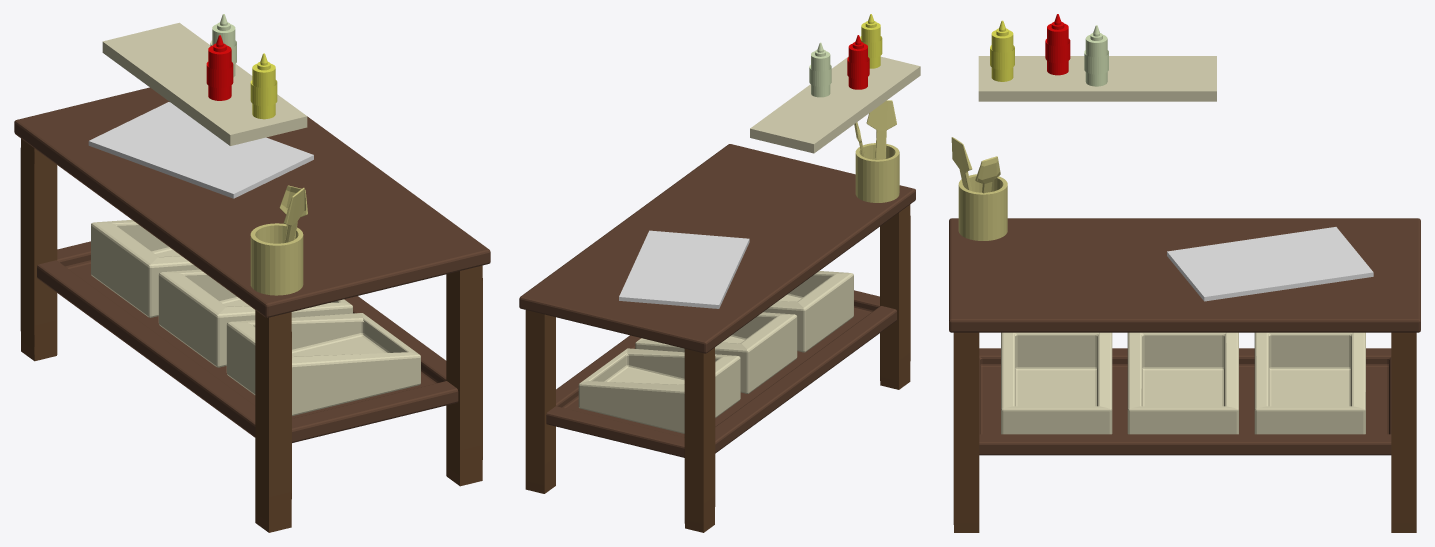
File: masa_raf.fbx
The picture shows the model from 3 angles, left to right: view 1: azimuth 30°, elevation 25°; view 2: azimuth 150°, elevation 25°; view 3: azimuth 270°, elevation 25°; orthographic projection. The views are drawn at different scales.
Parts seen in each view (by area): view 1: masa, sebzelik, kesme_tahtası, raf, koyacak, hardal, ketçap, mayonez; view 2: masa, sebzelik, kesme_tahtası, raf, koyacak, ketçap, mayonez, hardal; view 3: masa, sebzelik, kesme_tahtası, raf, koyacak, mayonez, hardal, ketçap.
Boxes of the visible parts, x1,y1,x2,y2 form: masa: (14,87,490,532); sebzelik: (91,219,420,415); kesme_tahtası: (88,102,313,198); raf: (102,22,307,145); koyacak: (250,185,307,295); hardal: (250,53,277,119); ketçap: (206,35,233,100); mayonez: (210,14,236,77); masa: (519,144,915,532); sebzelik: (578,271,853,433); kesme_tahtası: (619,230,749,308); raf: (750,56,920,153); koyacak: (854,100,899,202); ketçap: (847,35,869,89); mayonez: (809,42,831,97); hardal: (860,14,882,68); masa: (949,218,1420,532); sebzelik: (1001,332,1365,434); kesme_tahtası: (1167,227,1373,301); raf: (978,56,1216,101); koyacak: (951,137,1007,240); mayonez: (1084,25,1108,86); hardal: (990,20,1014,81); ketçap: (1045,14,1070,75).
Bounding box in the file's own units: 112 × 198 × 200.
